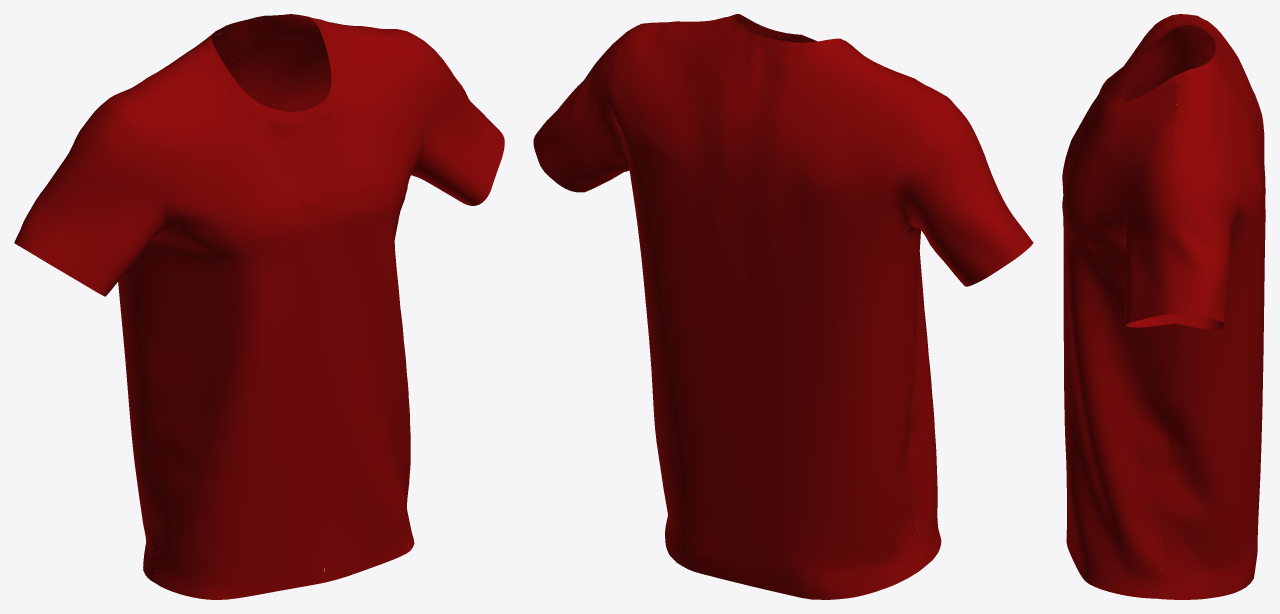
The model's file is tshirt.glb.
The picture shows the model from 3 angles, left to right: view 1: azimuth 30°, elevation 25°; view 2: azimuth 150°, elevation 25°; view 3: azimuth 270°, elevation 25°; orthographic projection. The views are drawn at different scales.
Visible parts, largest first — view 1: tshirt; view 2: tshirt; view 3: tshirt.
Part boxes in pixels (<box>): tshirt: <box>14,14,504,599</box>; tshirt: <box>533,14,1033,599</box>; tshirt: <box>1062,14,1265,599</box>.
Size of the model in its own units: 0.7404 by 0.7744 by 0.2818.
